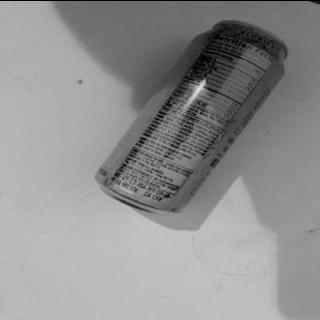alumunium_can: (90, 20, 288, 214)
